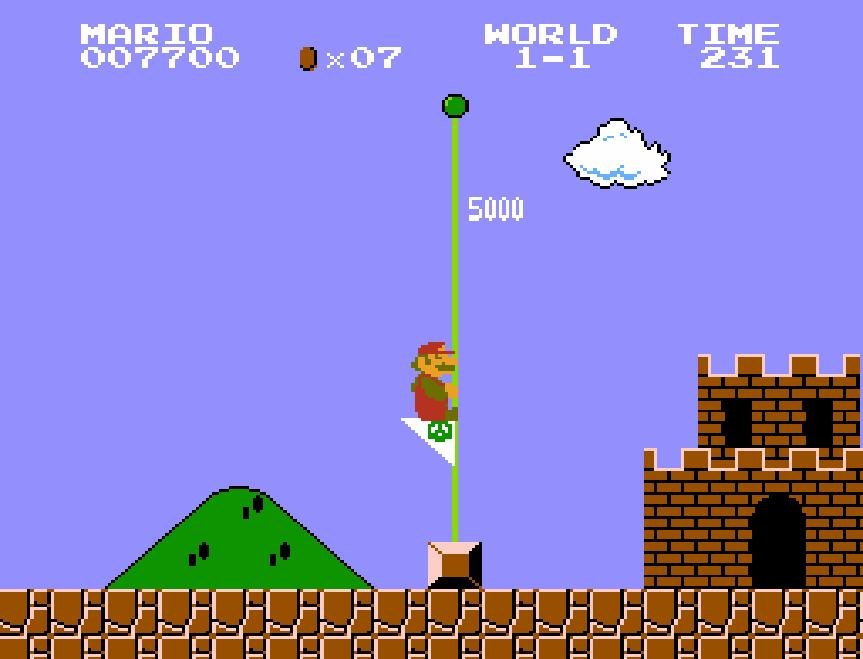big_mario: (402, 334, 461, 432)
